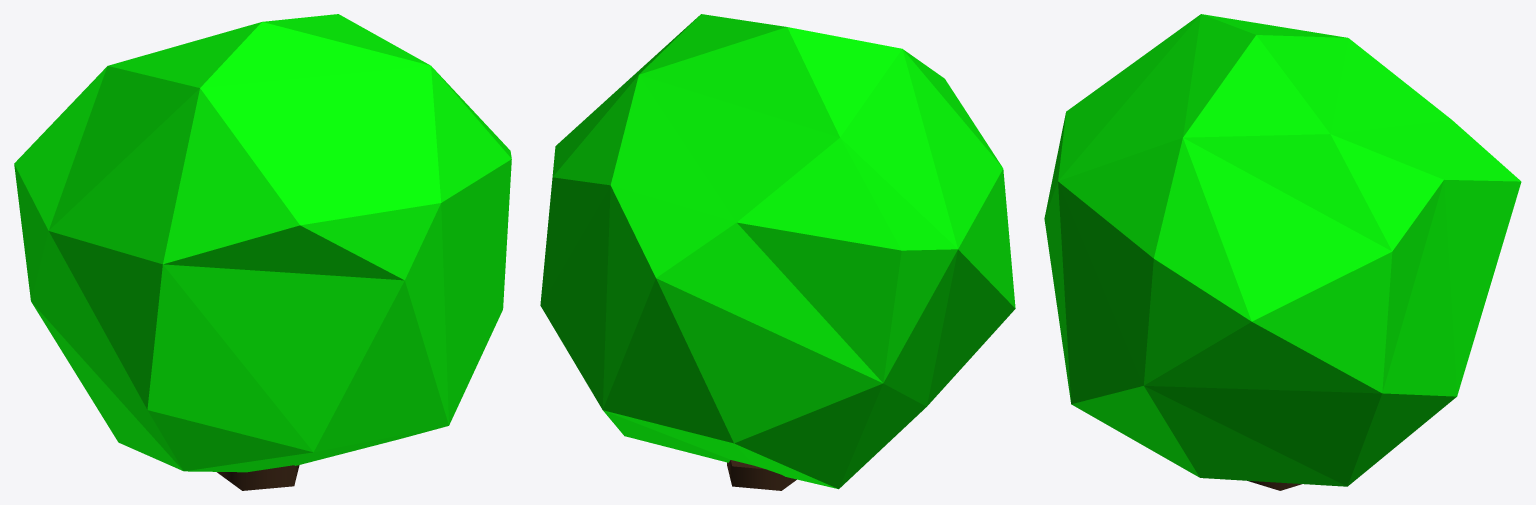
File: bush1.FBX
3 renders of one model, left to right at view 1: azimuth 30°, elevation 25°; view 2: azimuth 150°, elevation 25°; view 3: azimuth 270°, elevation 25°, orthographic. The views are drawn at different scales.
Parts seen in each view (by area): view 1: Hedra001, Cylinder001; view 2: Hedra001, Cylinder001; view 3: Hedra001.
Part boxes in pixels (<box>): Hedra001: <box>14,14,511,472</box>; Cylinder001: <box>217,465,299,490</box>; Hedra001: <box>540,14,1015,489</box>; Cylinder001: <box>727,460,796,490</box>; Hedra001: <box>1044,14,1521,486</box>.
Size of the model in its own units: 1000 by 1001 by 1000.
